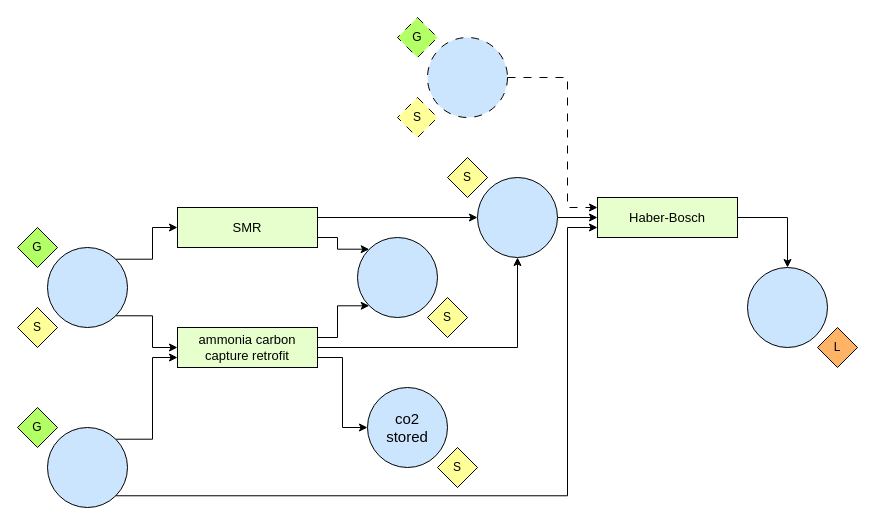
The diagram is 875 pixels wide and 525 high, and some of its shapes have lost their labels. Each missing label, with the box of its shape:
co2 atmoshpere: (356, 236, 438, 318)
electricity: (46, 426, 128, 508)
gas: (46, 246, 128, 328)
hydrogen: (476, 176, 558, 258)
NH3: (746, 266, 828, 348)
nitrogen: (426, 36, 508, 118)
